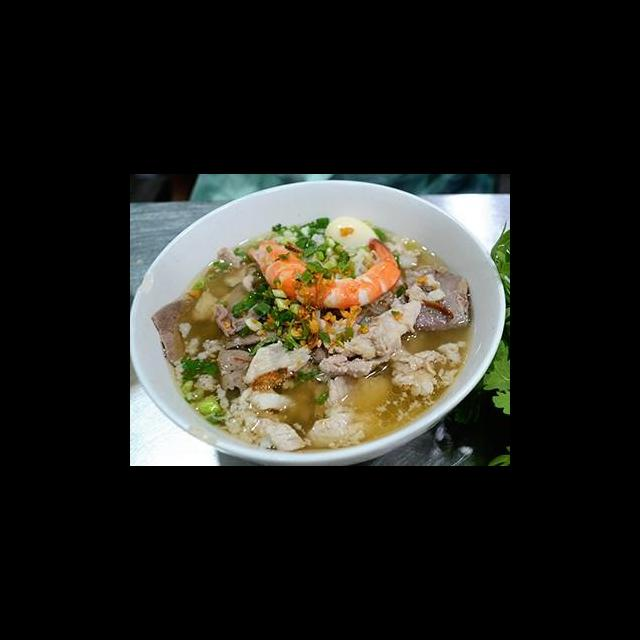thit bam: (171, 317, 233, 413), (212, 381, 273, 451)
thit heo: (316, 297, 425, 383), (300, 371, 376, 450), (240, 337, 312, 390), (382, 347, 447, 400), (255, 415, 307, 454)
tom: (243, 235, 407, 314)
trung: (321, 213, 384, 256)
